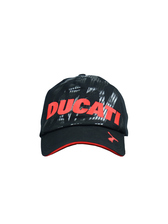other: (33, 71, 133, 159)
